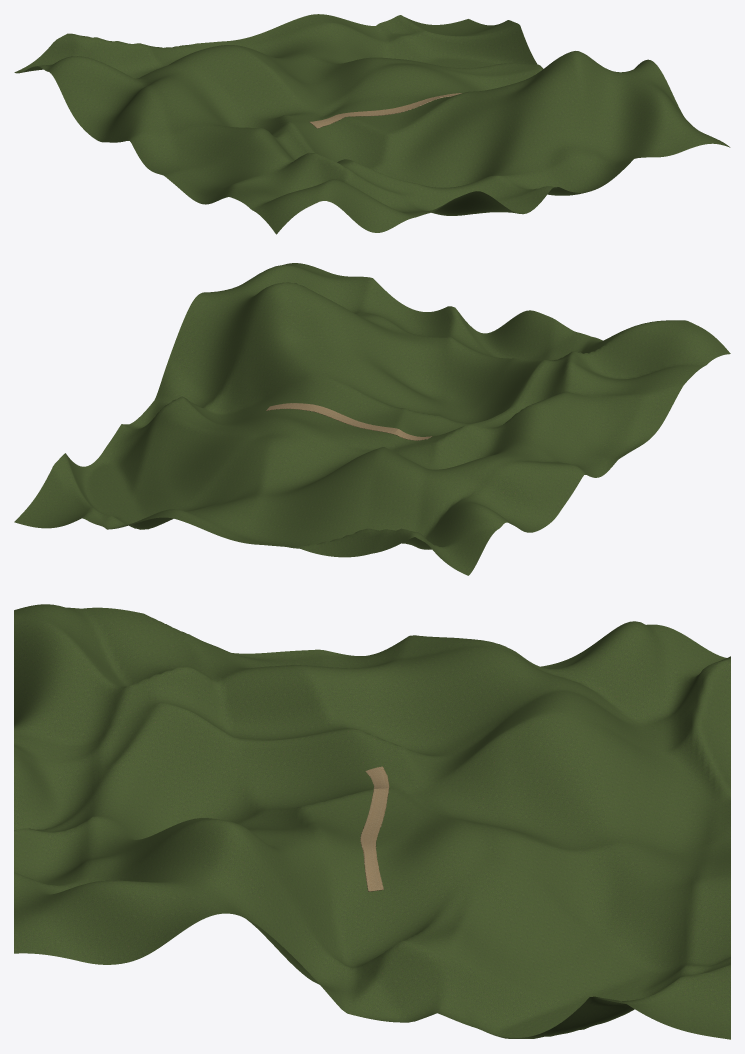
Rendered from Level1B3.fbx.
3 renders of one model, top to bottom at view 1: azimuth 30°, elevation 25°; view 2: azimuth 150°, elevation 25°; view 3: azimuth 270°, elevation 25°, orthographic. The views are drawn at different scales.
Parts seen in each view (by area): view 1: Landscape, Plane; view 2: Landscape, Plane; view 3: Landscape, Plane.
Boxes of the visible parts, x1,y1,x2,y2 form: Landscape: (14,14,730,234); Plane: (309,93,461,128); Landscape: (14,263,730,575); Plane: (266,403,431,440); Landscape: (14,604,730,1039); Plane: (360,766,389,891).
Size of the model in its own units: 17167 by 4415 by 17167.
